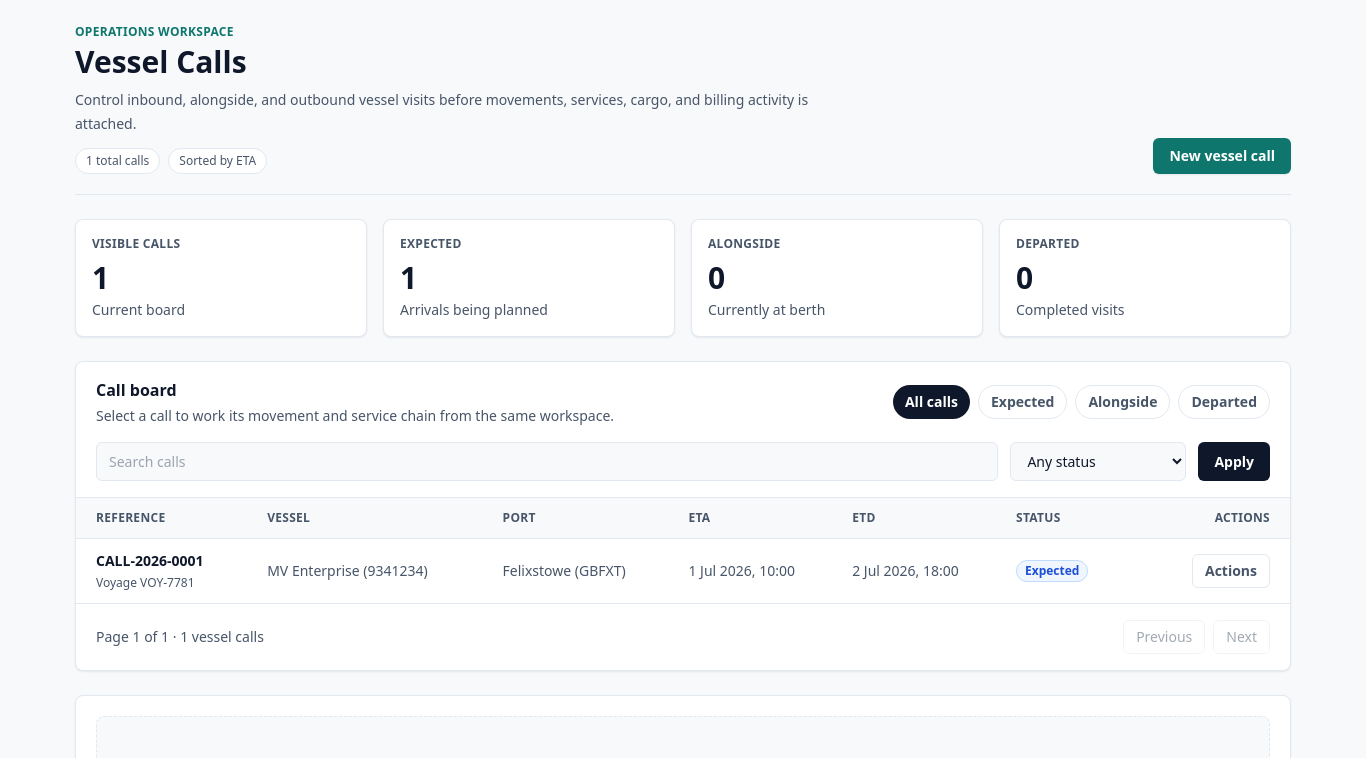
Test: VesselCallsPage › opens a movement service editor from the operational chain
This screenshot has width=1366, height=758.
Expected: the text "CALL-2026-0001" is shown, left=96, top=551, right=204, bottom=571
Click the row "CALL-2026-0001": click(150, 560) left=76, top=538, right=1290, bottom=603
(page scrolled)
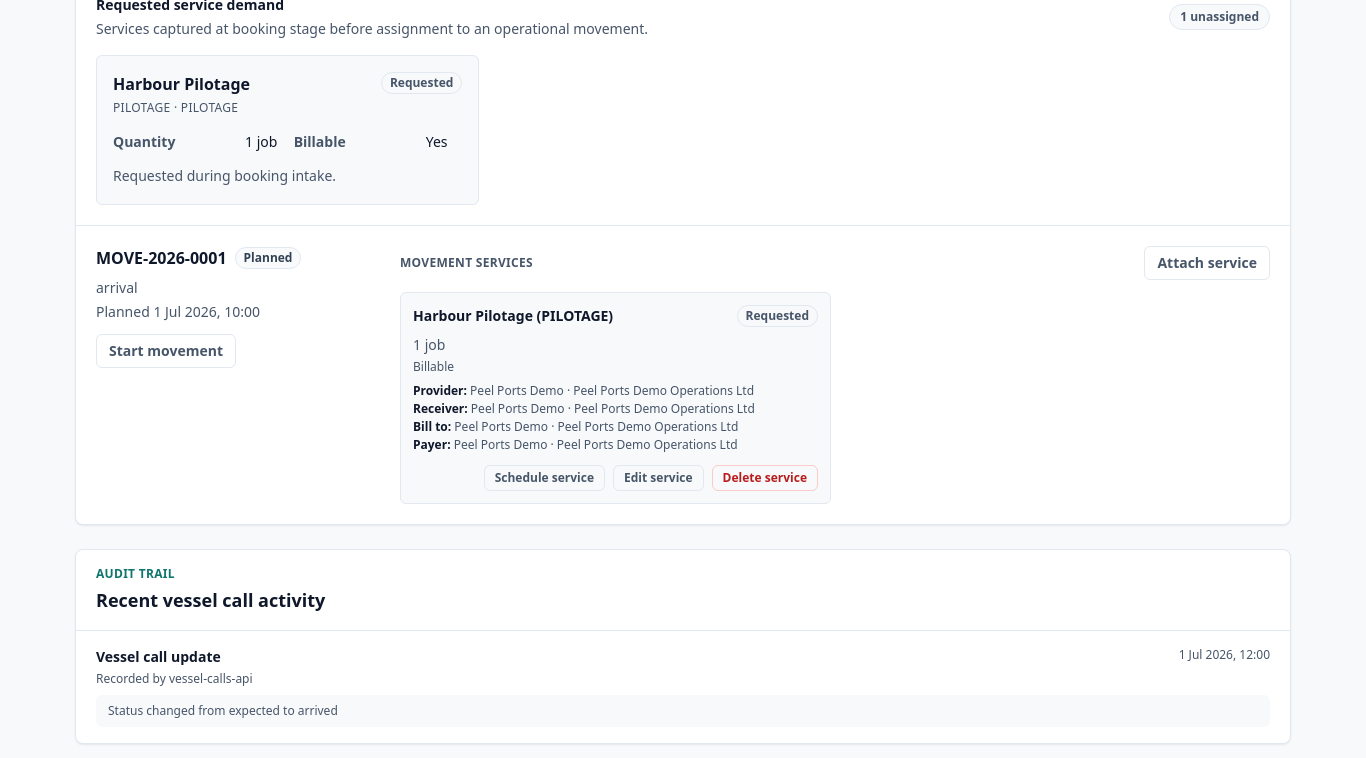
Expected: the text "Harbour Pilotage (PILOTAGE)" is shown, left=413, top=306, right=613, bottom=326
Click the button "Edit service": click(658, 478) left=613, top=465, right=704, bottom=491
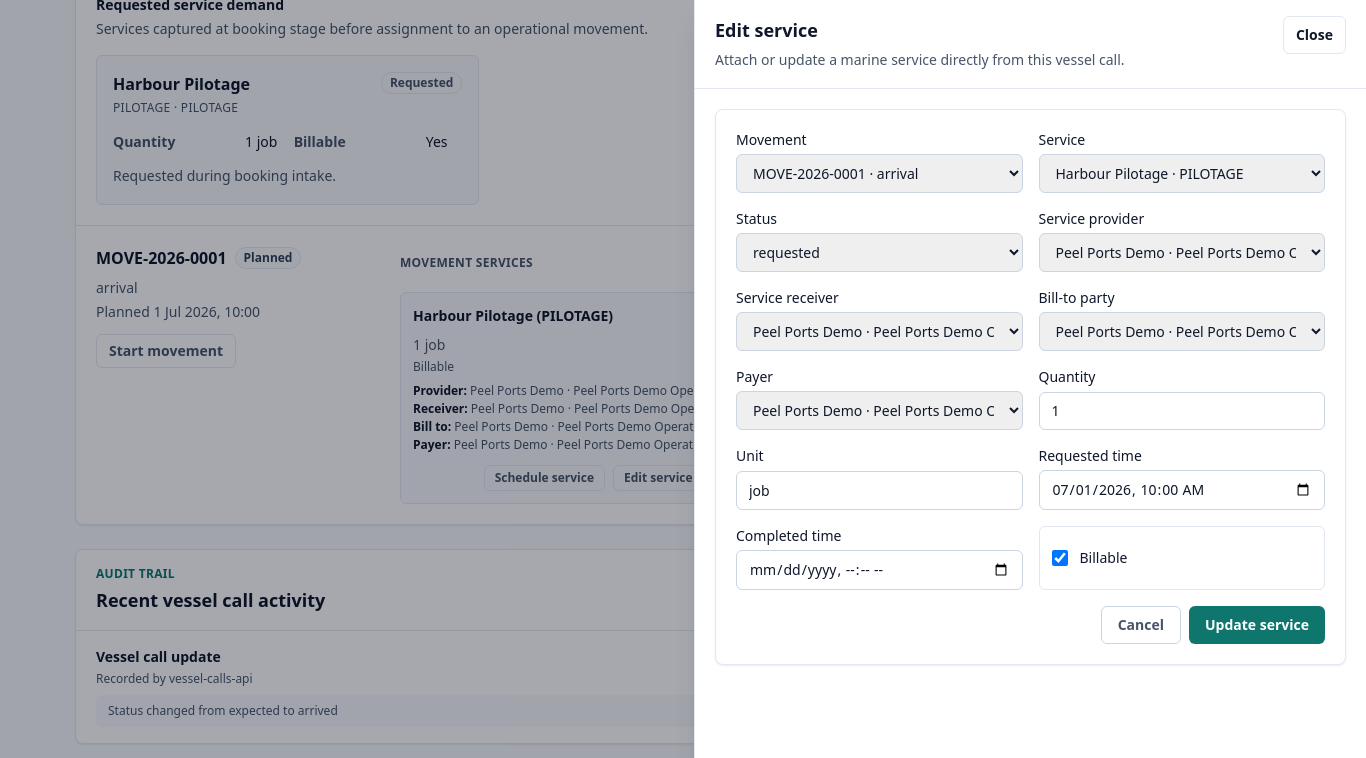
Expected: the heading "Edit service" is shown, left=715, top=18, right=818, bottom=42
Expected: the dropdown showing "MOVE-2026-0001 · arrival" is shown, left=736, top=154, right=1022, bottom=193
Expected: the dropdown showing "Harbour Pilotage · PILOTAGE" is shown, left=1038, top=154, right=1325, bottom=193
